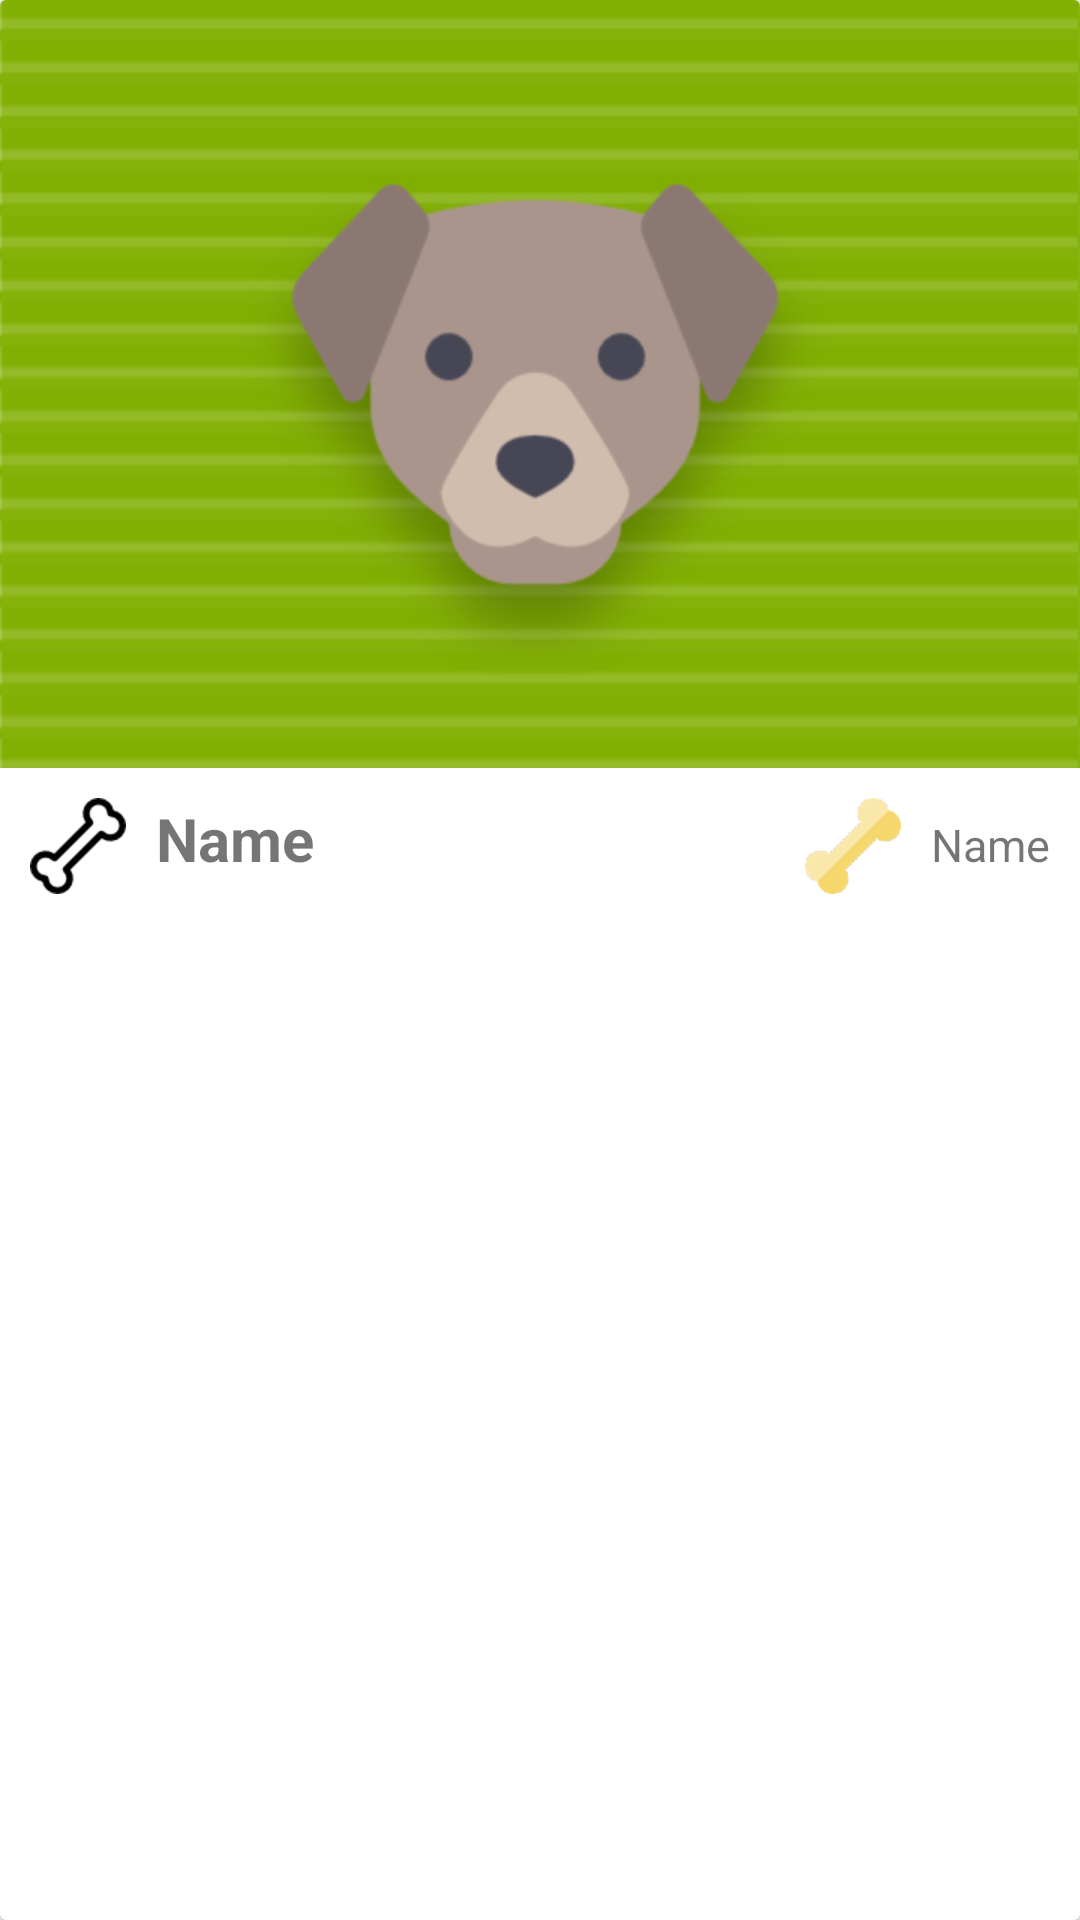

Point at icon controls on the screen. Image size 1080 × 1920, points as (x=x, y=y).
blackbone: (x=78, y=846)
bones: (x=853, y=846)
